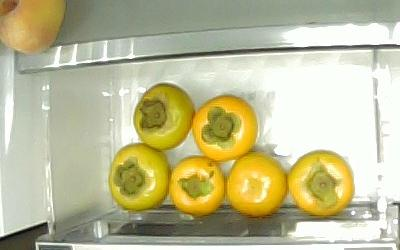persimmon: (288, 151, 354, 215), (192, 96, 257, 160), (110, 144, 171, 211), (133, 84, 194, 150), (227, 154, 287, 216), (171, 156, 224, 217)
